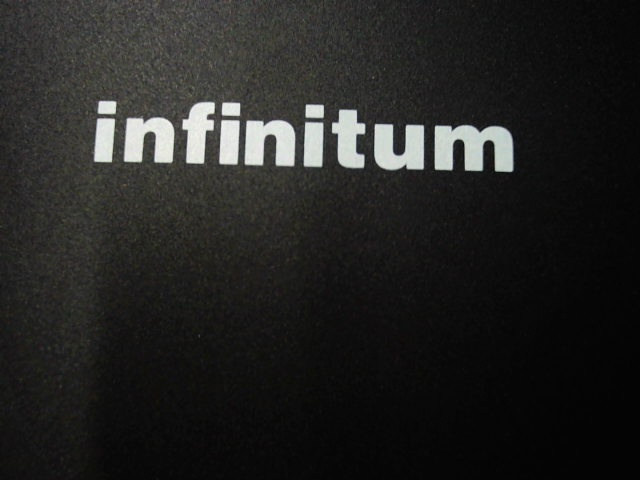BK_infinitum: (72, 86, 527, 189)
